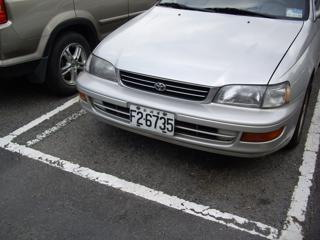plate: (127, 103, 175, 138)
